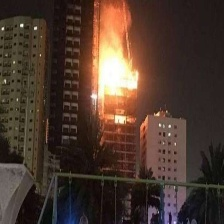fire: (97, 55, 142, 91)
smoke: (94, 2, 133, 45)
